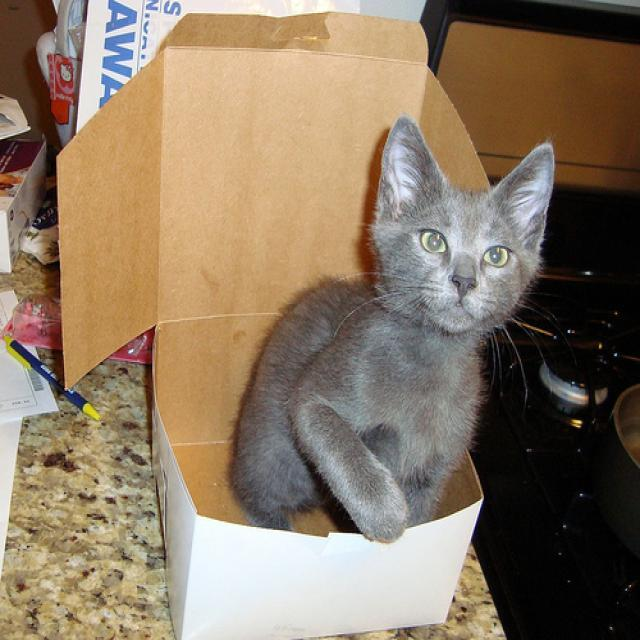Russian_Blue: (379, 115, 553, 332)
